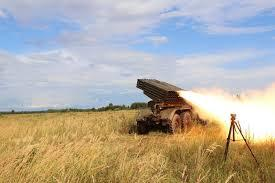MIL_SAM_TEL: (133, 78, 203, 133)
